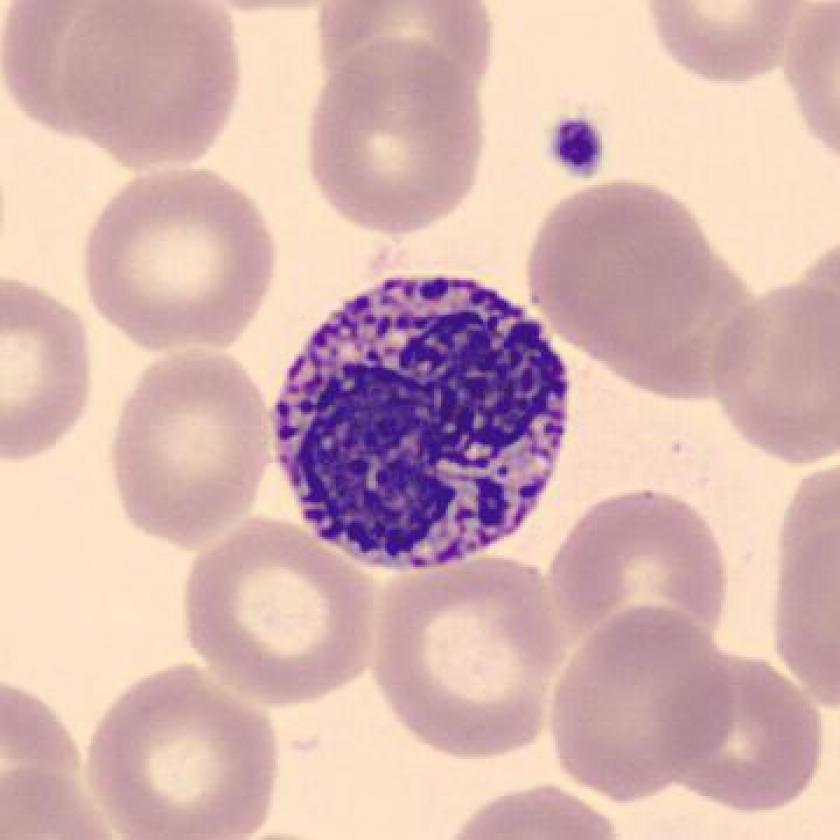basophil: (281, 265, 587, 579)
